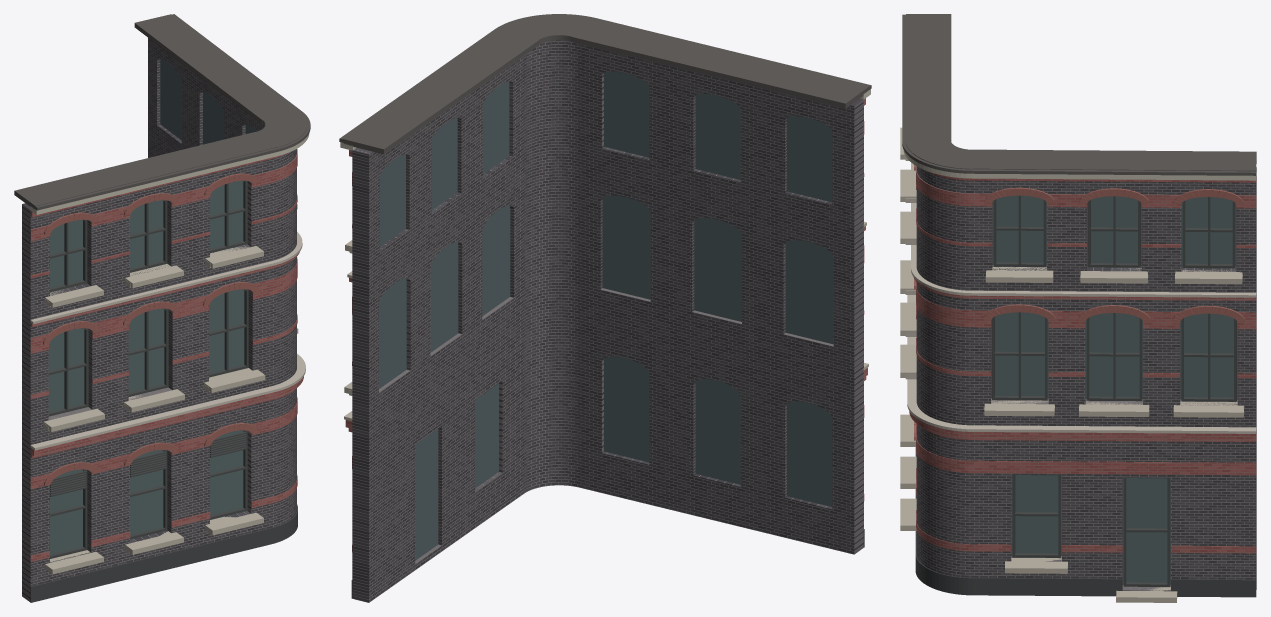
The model's file is huangpu-hengye-li-jiangxi-corner-raw.glb.
3 views of the same model, side by side, from view 1: azimuth 30°, elevation 25°; view 2: azimuth 150°, elevation 25°; view 3: azimuth 270°, elevation 25° (orthographic). The views are drawn at different scales.
Visible parts, largest first — view 1: 恒业里江西中路115号泗泾路转角; view 2: 恒业里江西中路115号泗泾路转角; view 3: 恒业里江西中路115号泗泾路转角.
Boxes of the visible parts, x1,y1,x2,y2 form: 恒业里江西中路115号泗泾路转角: (14, 14, 310, 602); 恒业里江西中路115号泗泾路转角: (339, 14, 871, 602); 恒业里江西中路115号泗泾路转角: (900, 14, 1256, 602).
Size of the model in its own units: 9.15 by 11.56 by 8.67.
Materials: 10 (2 with a texture image).
